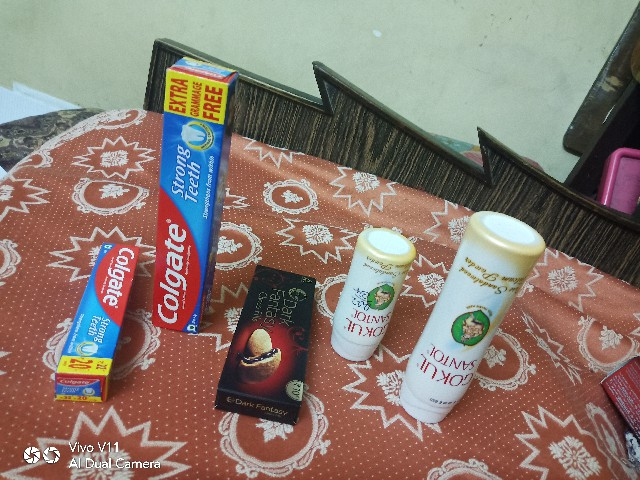colgatetoothpaste big: (149, 40, 238, 354)
colgatetoothpaste small: (54, 224, 143, 410)
darkfantasy small: (218, 244, 323, 440)
gokulsantol big: (401, 208, 560, 434)
gokulsantol small: (332, 210, 418, 380)
